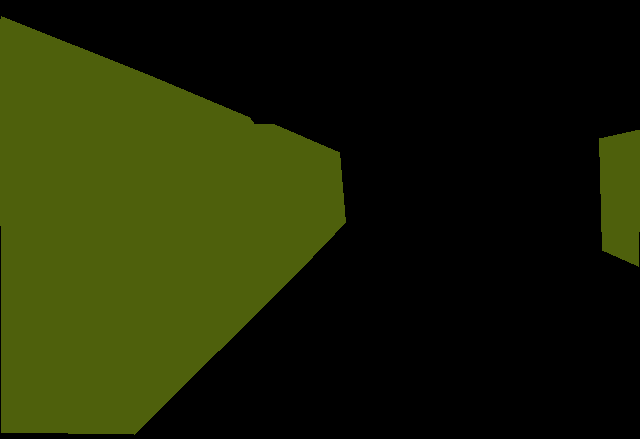Train: (0, 16, 345, 434), (599, 129, 640, 266)
